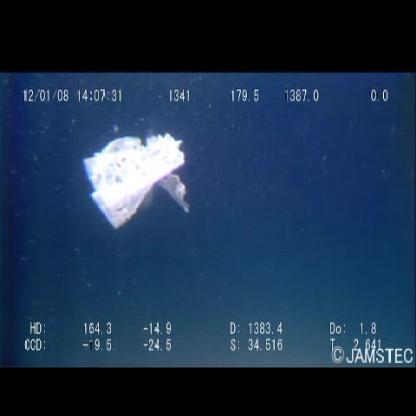Rác: (80, 125, 192, 238)
